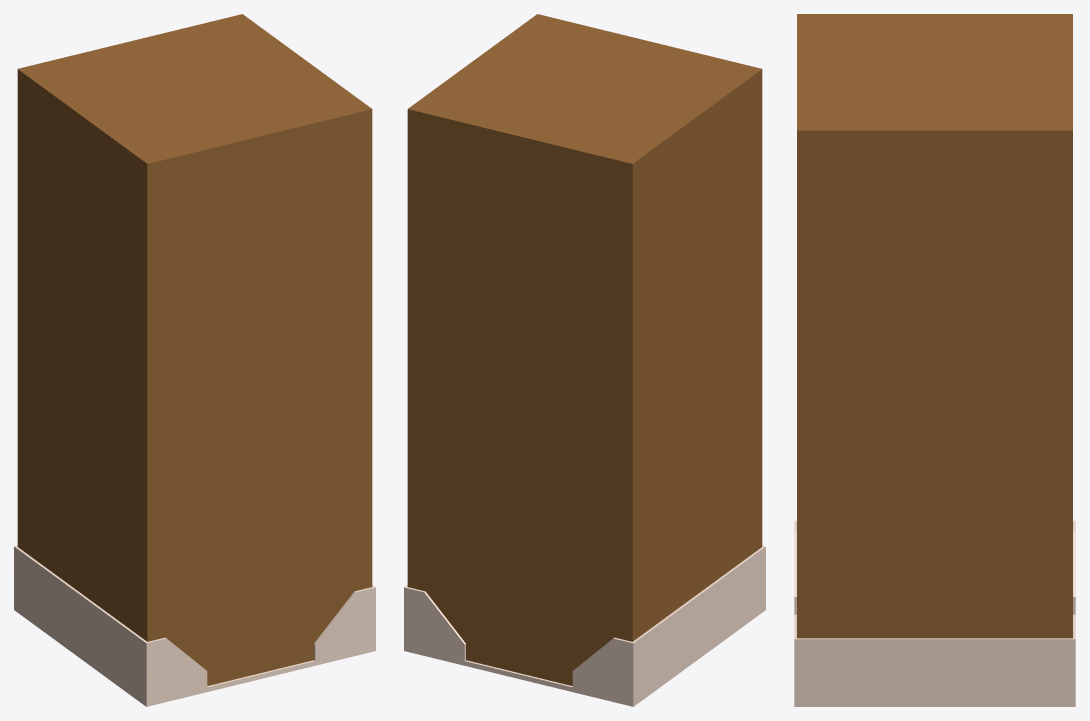
3 views of the same model, side by side, from view 1: azimuth 30°, elevation 25°; view 2: azimuth 150°, elevation 25°; view 3: azimuth 270°, elevation 25° (orthographic). The views are drawn at different scales.
Parts seen in each view (by area): view 1: Box5, Box5_Cover; view 2: Box5, Box5_Cover; view 3: Box5, Box5_Cover.
Boxes of the visible parts, box(x1,y1,x2,y2) form: Box5: box(17, 14, 372, 685); Box5_Cover: box(14, 545, 375, 706); Box5: box(407, 14, 762, 685); Box5_Cover: box(404, 545, 765, 706); Box5: box(797, 14, 1072, 638); Box5_Cover: box(794, 520, 1075, 706).
Size of the model in its own units: 102 by 230 by 102.
